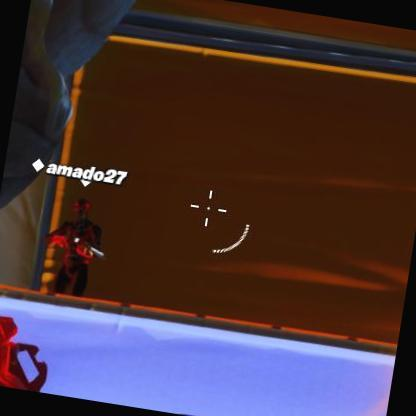person: (38, 193, 112, 300)
